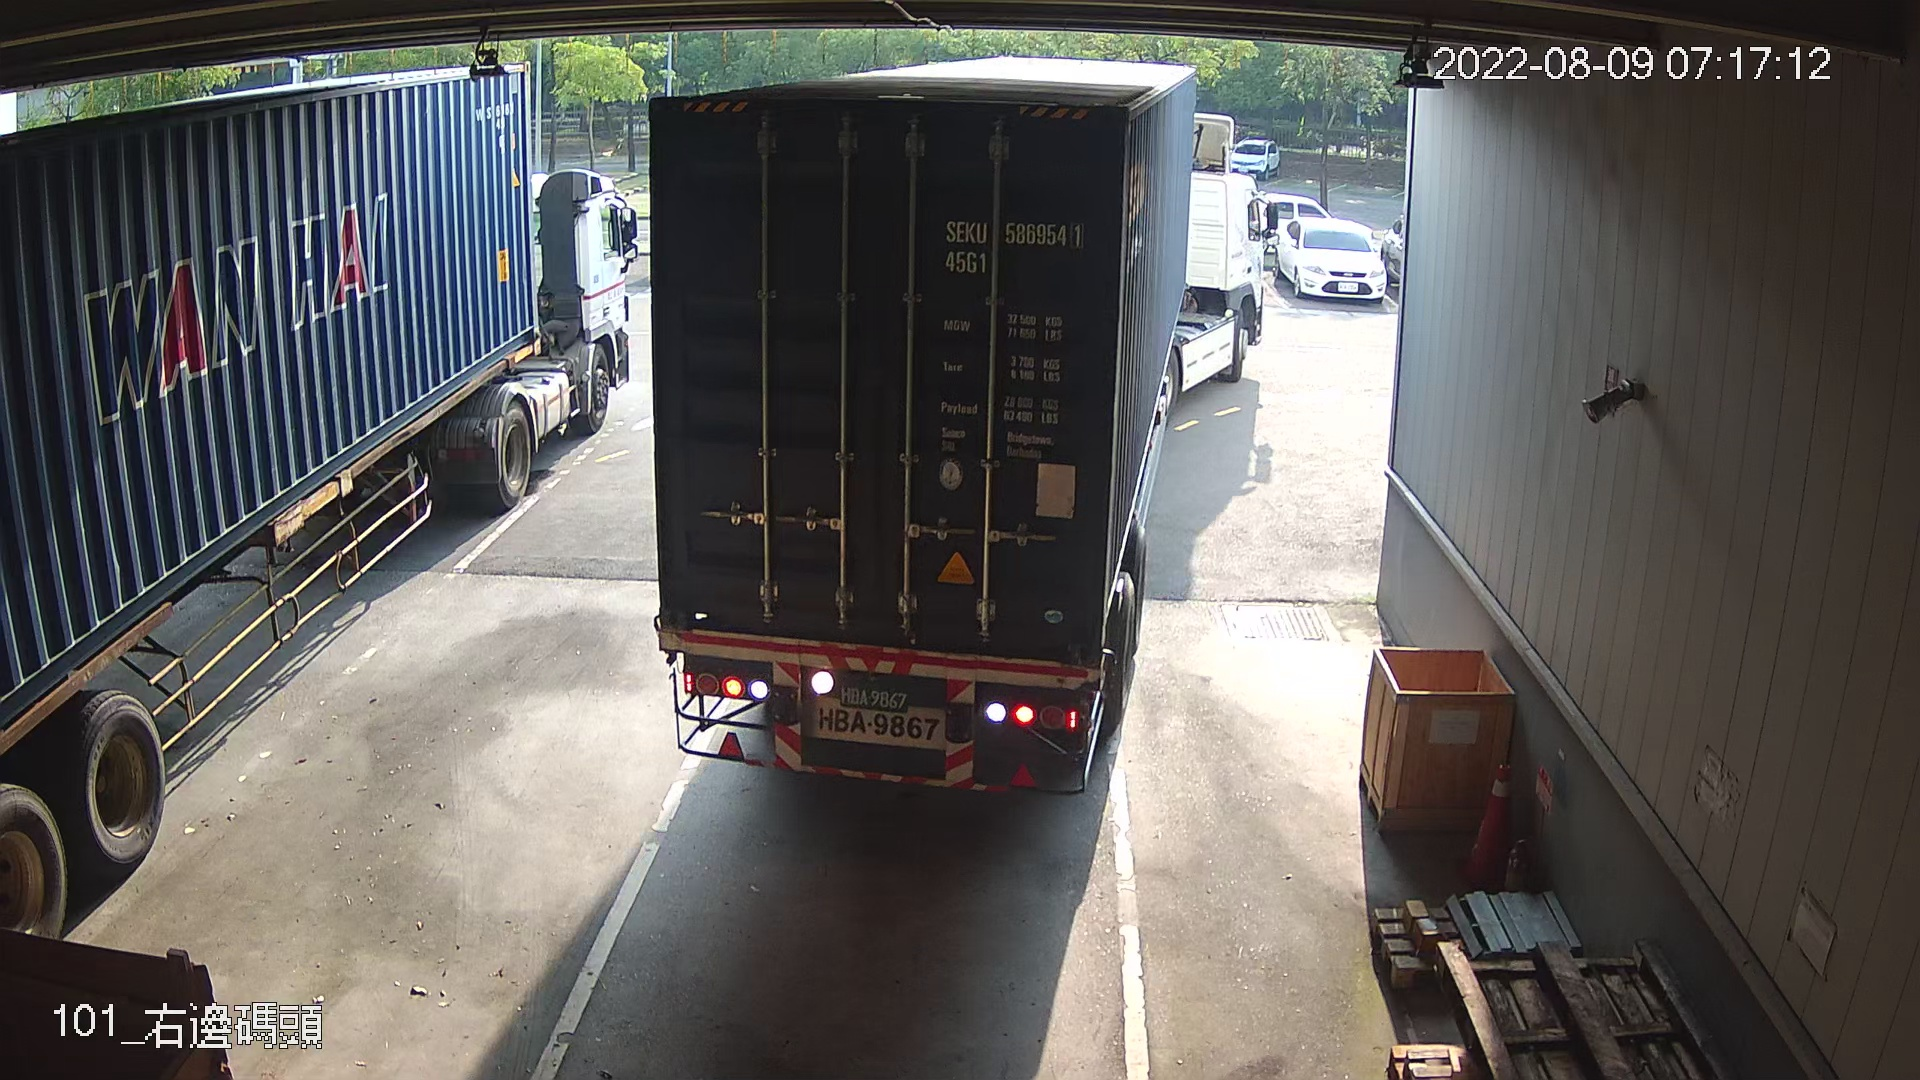container: (934, 208, 1092, 287)
